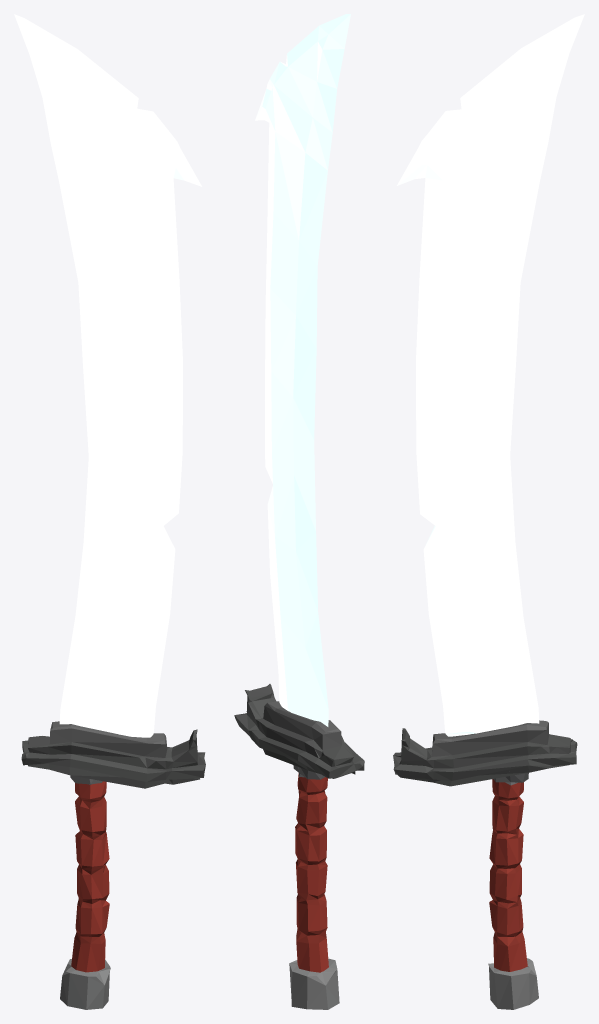
File: SFFA_Weapon_Sword_Runical_002.fbx
3 renders of one model, left to right at view 1: azimuth 90°, elevation 25°; view 2: azimuth 210°, elevation 25°; view 3: azimuth 270°, elevation 25°, orthographic. The views are drawn at different scales.
Parts seen in each view (by area): view 1: SFFA_Weapon_Sword_Runical_002; view 2: SFFA_Weapon_Sword_Runical_002; view 3: SFFA_Weapon_Sword_Runical_002.
Boxes of the visible parts, x1,y1,x2,y2 form: SFFA_Weapon_Sword_Runical_002: [14, 14, 205, 1009]; SFFA_Weapon_Sword_Runical_002: [234, 14, 364, 1009]; SFFA_Weapon_Sword_Runical_002: [393, 14, 584, 1009].
Bounding box in the file's own units: 6.04 × 117 × 20.53.
